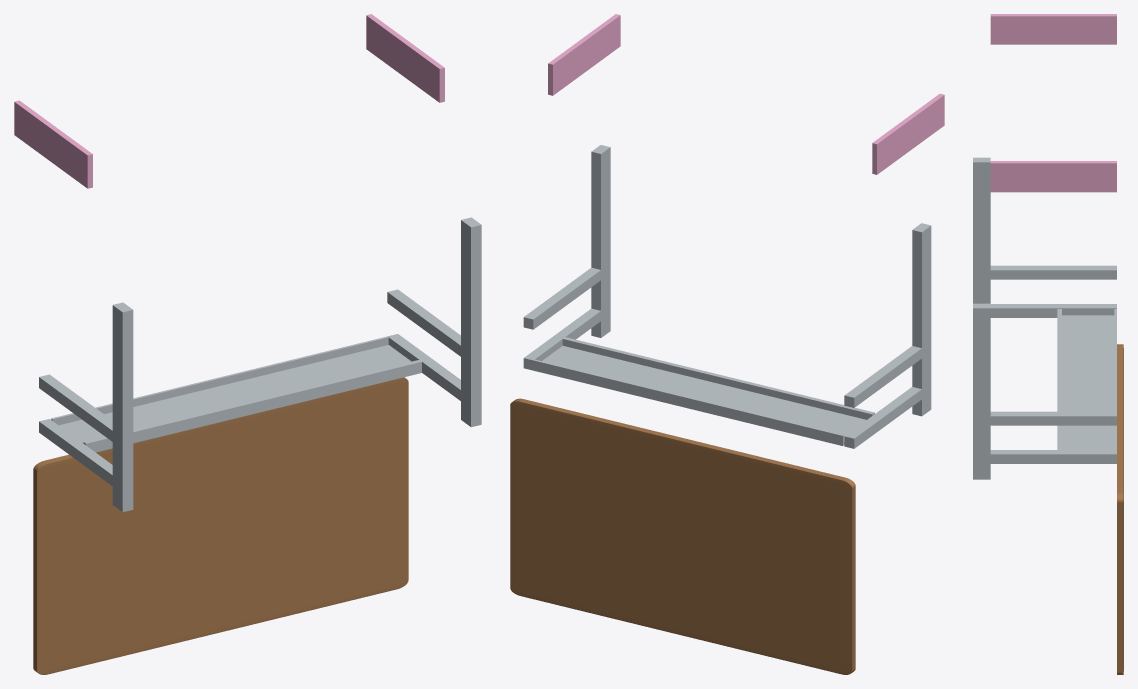
Rendered from Wooden Tablev2.fbx.
3 renders of one model, left to right at view 1: azimuth 30°, elevation 25°; view 2: azimuth 150°, elevation 25°; view 3: azimuth 270°, elevation 25°, orthographic. The views are drawn at different scales.
Parts seen in each view (by area): view 1: group_0_11107152, group_0_12568524, group_0_15708628; view 2: group_0_11107152, group_0_12568524, group_0_15708628; view 3: group_0_12568524, group_0_15708628, group_0_11107152.
Part boxes in pixels (x1,y1,x2,y2): group_0_11107152: (33, 377, 408, 674); group_0_12568524: (39, 217, 481, 512); group_0_15708628: (14, 14, 444, 188); group_0_11107152: (510, 398, 855, 674); group_0_12568524: (523, 145, 931, 448); group_0_15708628: (548, 14, 944, 174); group_0_12568524: (973, 157, 1116, 479); group_0_15708628: (990, 14, 1116, 192); group_0_11107152: (1117, 344, 1123, 674).
Size of the model in its own units: 112 by 157 by 43.
